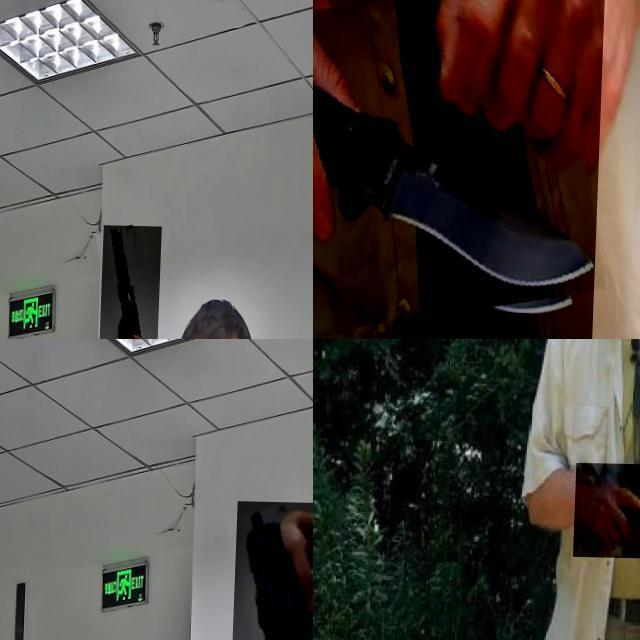-: (313, 0, 606, 339), (576, 461, 640, 557)
gun-knife-thesis - v11 Yolov5 augmented: (230, 499, 313, 640), (100, 224, 164, 339)
